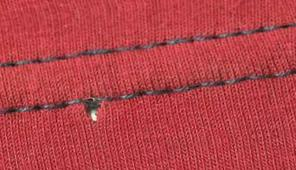hole: (83, 105, 105, 123)
